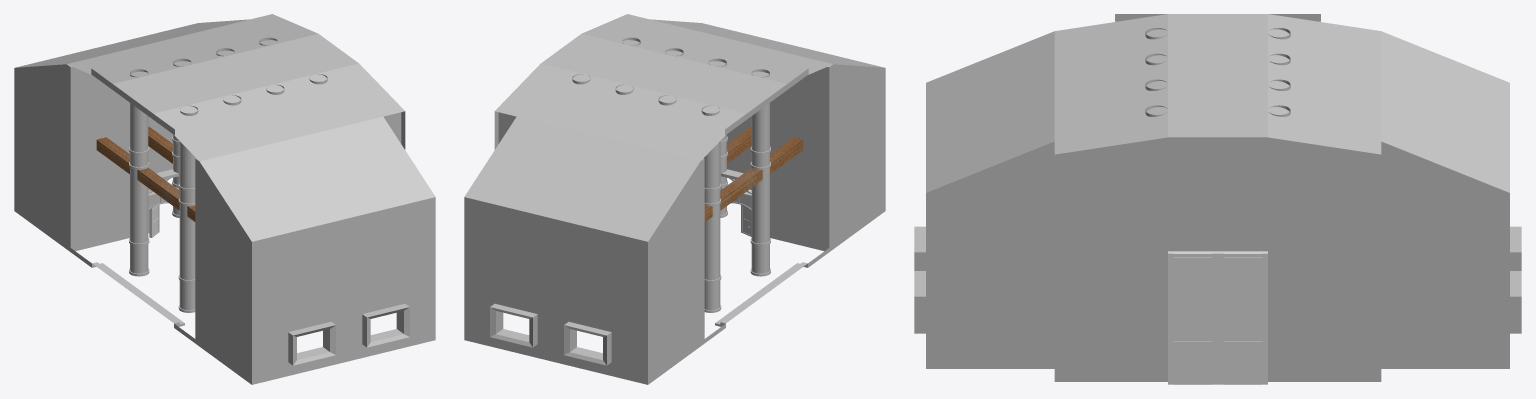
File: Lobby.fbx
3 views of the same model, side by side, from view 1: azimuth 30°, elevation 25°; view 2: azimuth 150°, elevation 25°; view 3: azimuth 270°, elevation 25° (orthographic). The views are drawn at different scales.
Parts seen in each view (by area): view 1: Lobby of the Castle, FloorPillar.004, FloorPillar.005, Rafter_003, window.022, window.021, ExtendPillar.006, ExtendPillar.004, Rafter_002, Arch_005.001; view 2: Lobby of the Castle, FloorPillar.005, FloorPillar.004, Rafter_003, window.002, window.001, ExtendPillar.004, ExtendPillar.006, Rafter_002, Arch_002; view 3: Lobby of the Castle, Cube, window.002, window.022, window.001, window.021.
Boxes of the visible parts, left/top/right/bottom form: Lobby of the Castle: left=14, top=14, right=435, bottom=384; FloorPillar.004: left=129, top=168, right=149, bottom=276; FloorPillar.005: left=178, top=204, right=195, bottom=312; Rafter_003: left=96, top=137, right=195, bottom=221; window.022: left=362, top=303, right=409, bottom=347; window.021: left=288, top=321, right=335, bottom=365; ExtendPillar.006: left=129, top=69, right=149, bottom=169; ExtendPillar.004: left=178, top=105, right=198, bottom=206; Rafter_002: left=148, top=126, right=172, bottom=163; Arch_005.001: left=148, top=169, right=178, bottom=210; Lobby of the Castle: left=464, top=14, right=885, bottom=384; FloorPillar.005: left=750, top=168, right=770, bottom=276; FloorPillar.004: left=704, top=204, right=721, bottom=312; Rafter_003: left=704, top=137, right=803, bottom=221; window.002: left=490, top=303, right=537, bottom=347; window.001: left=564, top=321, right=611, bottom=365; ExtendPillar.004: left=750, top=69, right=770, bottom=169; ExtendPillar.006: left=701, top=105, right=721, bottom=206; Rafter_002: left=727, top=126, right=751, bottom=163; Arch_002: left=721, top=169, right=751, bottom=210; Lobby of the Castle: left=926, top=14, right=1509, bottom=381; Cube: left=1168, top=251, right=1267, bottom=384; window.002: left=1510, top=271, right=1521, bottom=333; window.022: left=914, top=271, right=925, bottom=333; window.001: left=1510, top=226, right=1521, bottom=270; window.021: left=914, top=226, right=925, bottom=270.
Size of the model in its own units: 1464 by 1323 by 2975.
